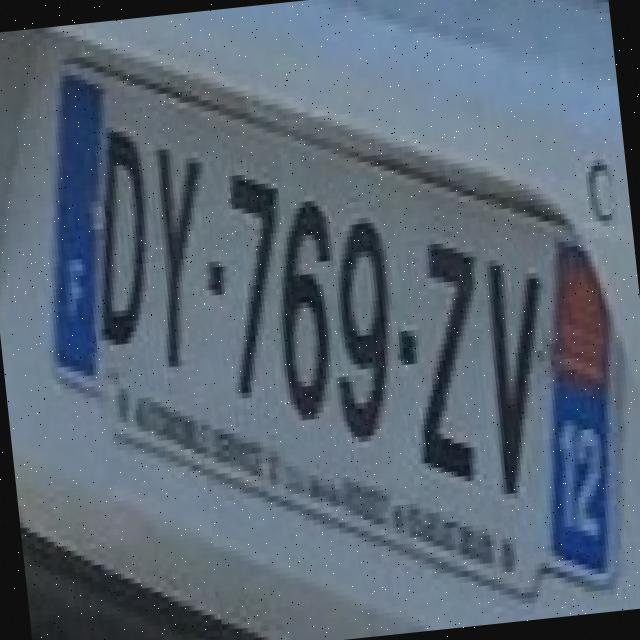EU: (44, 38, 617, 584)
France: (55, 72, 105, 374)
